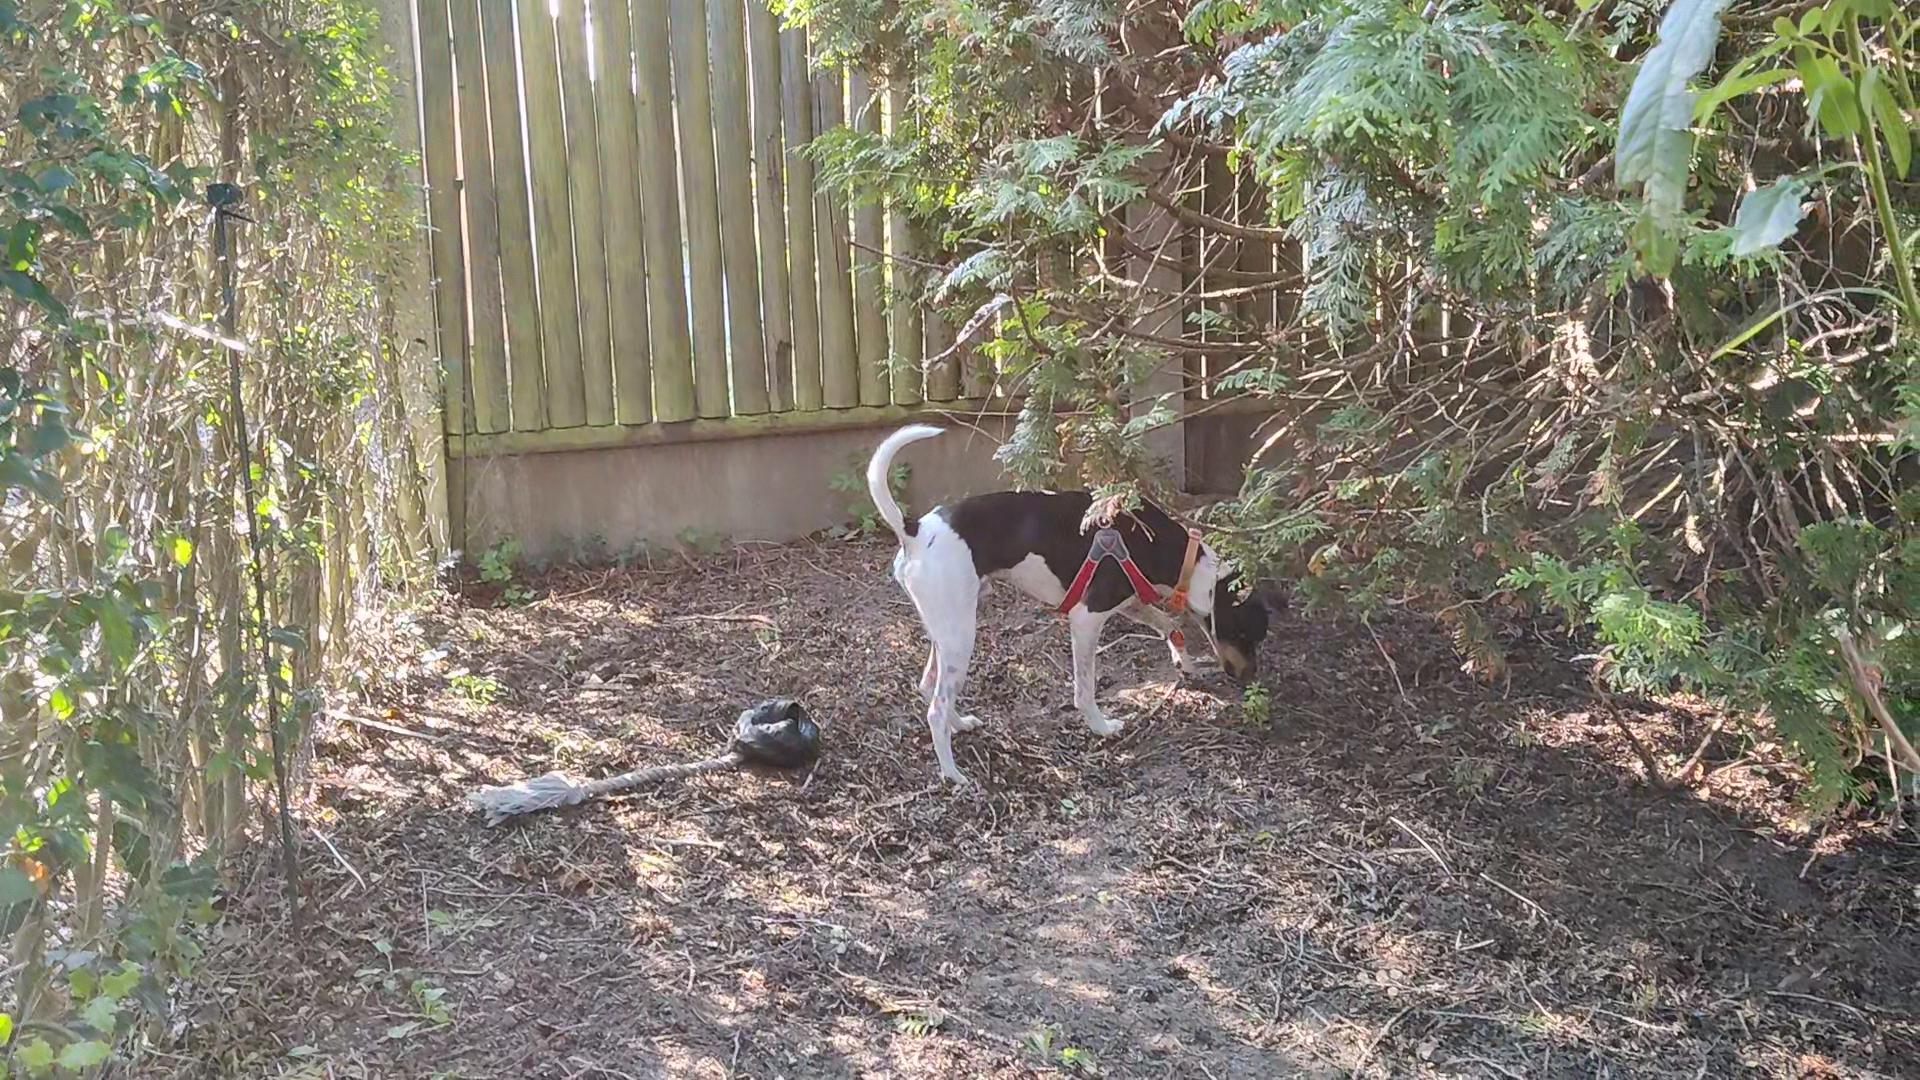Dog: (848, 411, 1280, 785)
